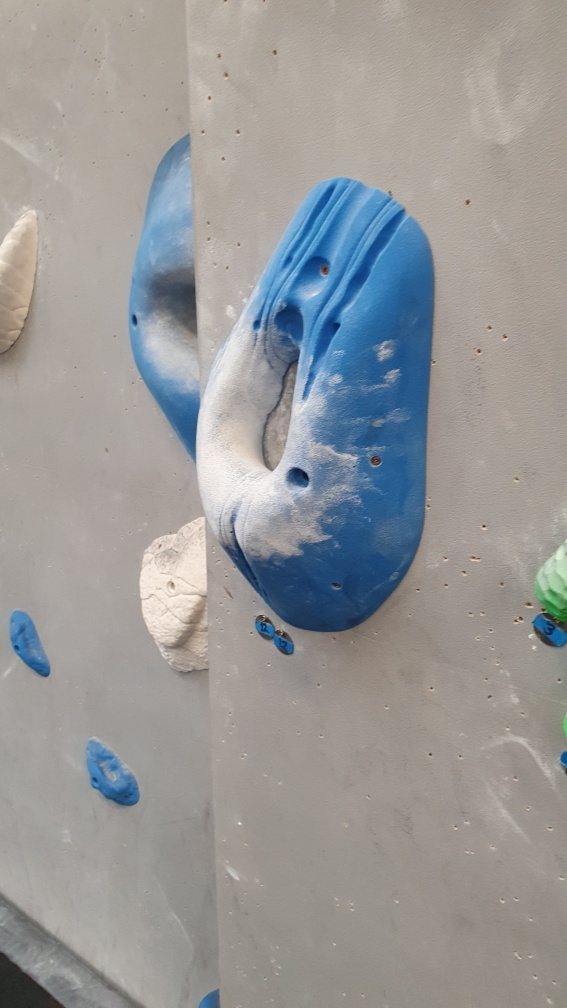Hand Start: (532, 610, 567, 652), (252, 608, 276, 643), (272, 628, 296, 657)
Pocket: (192, 173, 439, 638), (130, 133, 197, 464)
